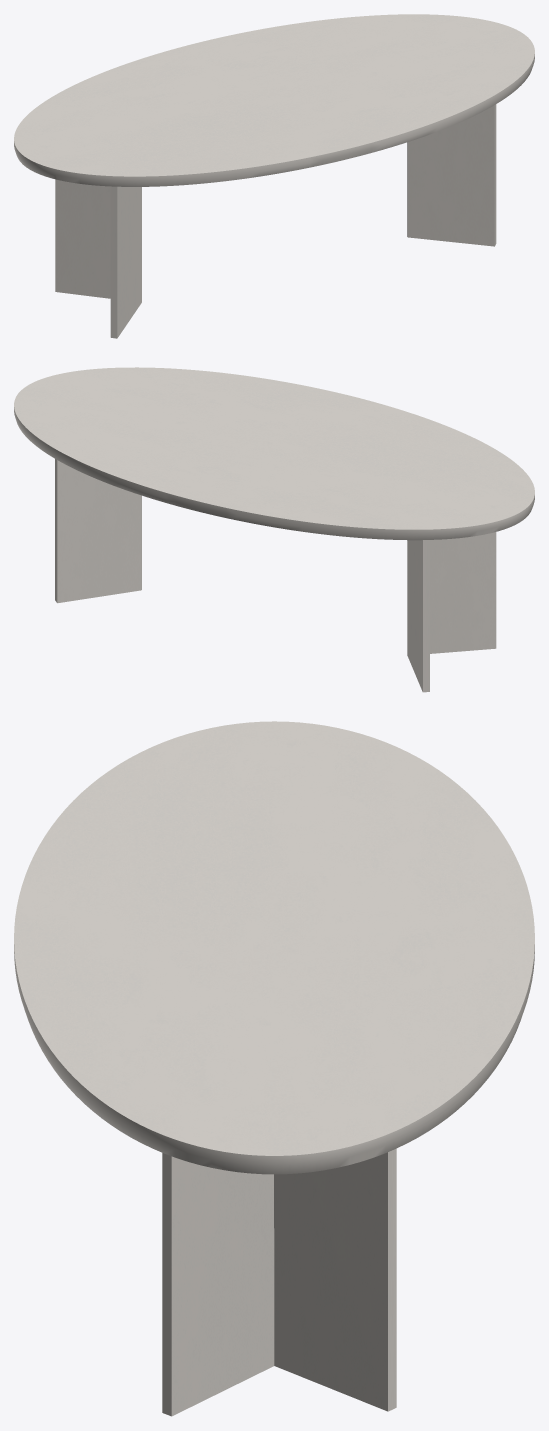
The model's file is pearlwhite_ellips_facet_valleyv.glb.
The picture shows the model from 3 angles, top to bottom: view 1: azimuth 30°, elevation 25°; view 2: azimuth 150°, elevation 25°; view 3: azimuth 270°, elevation 25°; orthographic projection. The views are drawn at different scales.
Visible parts, largest first — view 1: tabletop_ellips_facet.014, tableleg_valleyv.032; view 2: tabletop_ellips_facet.014, tableleg_valleyv.032; view 3: tabletop_ellips_facet.014, tableleg_valleyv.032.
Part boxes in pixels (left/top/right/bottom): tabletop_ellips_facet.014: left=14, top=14, right=534, bottom=186; tableleg_valleyv.032: left=55, top=104, right=496, bottom=338; tabletop_ellips_facet.014: left=14, top=367, right=534, bottom=540; tableleg_valleyv.032: left=55, top=459, right=496, bottom=692; tabletop_ellips_facet.014: left=14, top=721, right=534, bottom=1174; tableleg_valleyv.032: left=162, top=1148, right=396, bottom=1416.
Size of the model in its own units: 7.5 by 2.5 by 3.8.
Materials: 1 (1 with a texture image).
